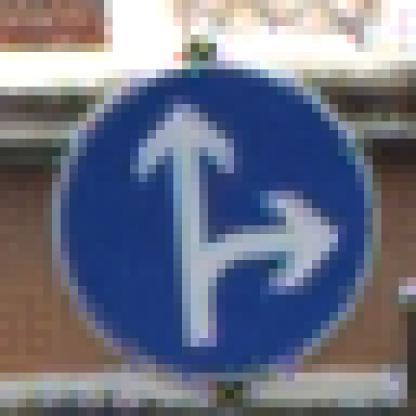Straight or Right: (53, 53, 374, 374)
